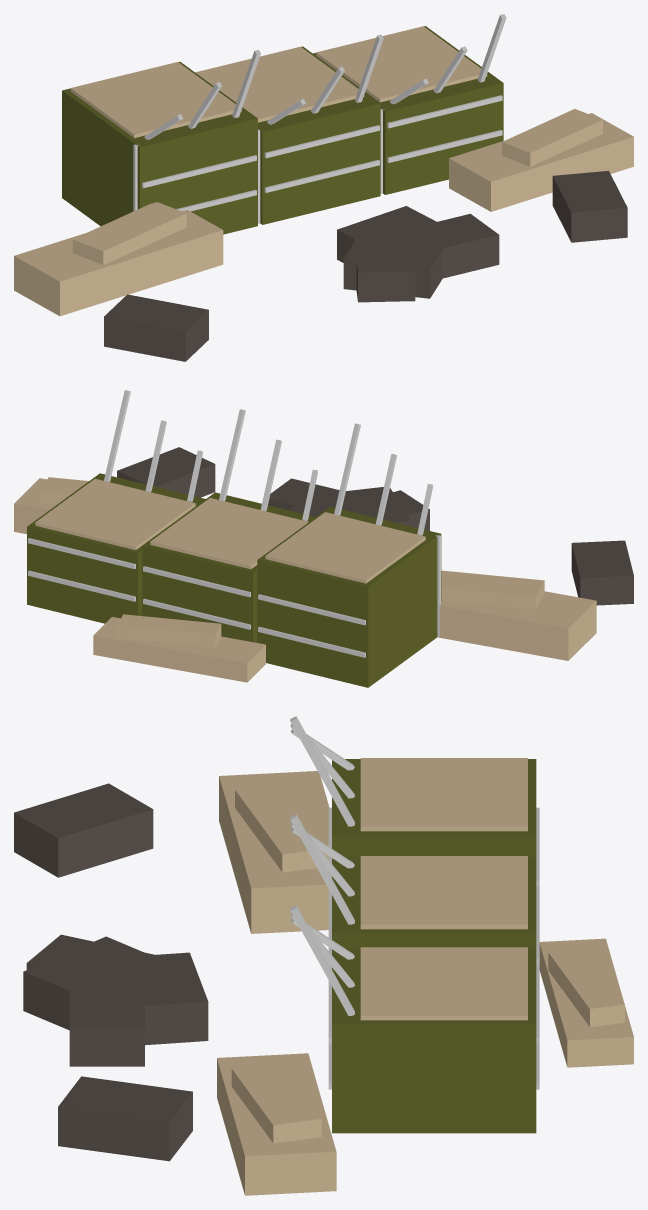
The model's file is SM_HescoCorto3_v1_Geotextil_e2_MuyDanado_LOD0.fbx.
3 views of the same model, one above another, from view 1: azimuth 30°, elevation 25°; view 2: azimuth 150°, elevation 25°; view 3: azimuth 270°, elevation 25° (orthographic). The views are drawn at different scales.
Parts seen in each view (by area): view 1: SM_hesco_piezas_v86_LOD0; view 2: SM_hesco_piezas_v86_LOD0; view 3: SM_hesco_piezas_v86_LOD0.
Part boxes in pixels (box(x1,y1,x2,y2)): SM_hesco_piezas_v86_LOD0: box(14, 14, 633, 361); SM_hesco_piezas_v86_LOD0: box(14, 390, 633, 687); SM_hesco_piezas_v86_LOD0: box(14, 716, 633, 1195).
Size of the model in its own units: 5.36 by 1.64 by 3.7.
